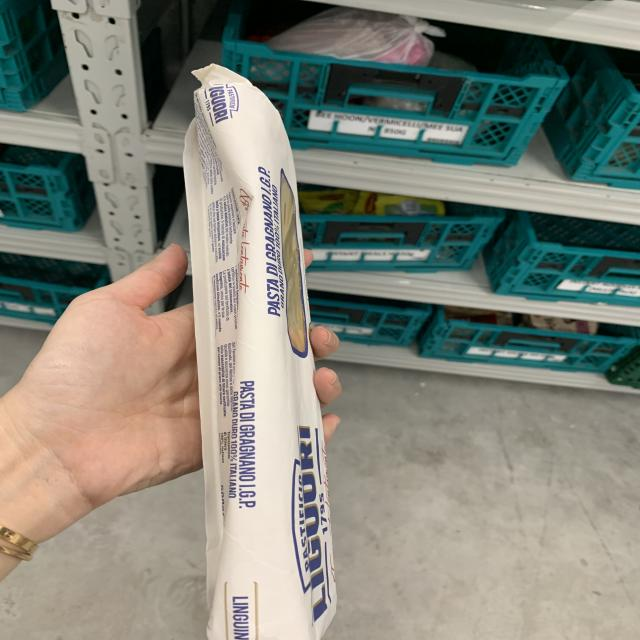object_name: (177, 83, 332, 640)
